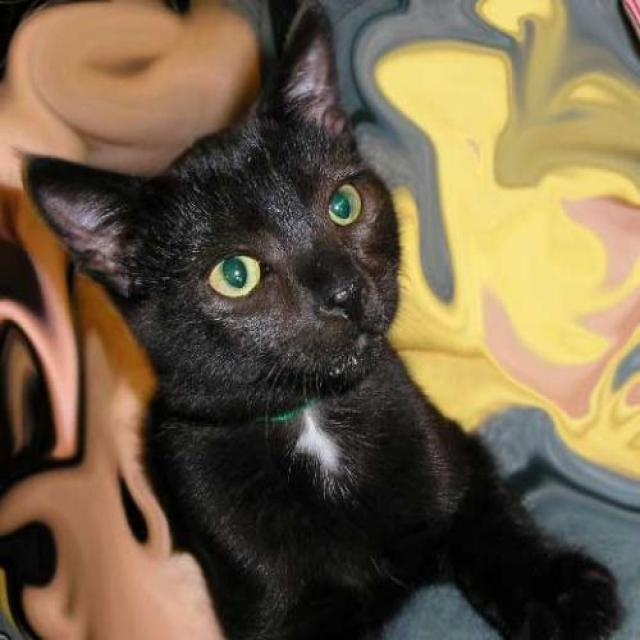Cats: (19, 0, 625, 639)
